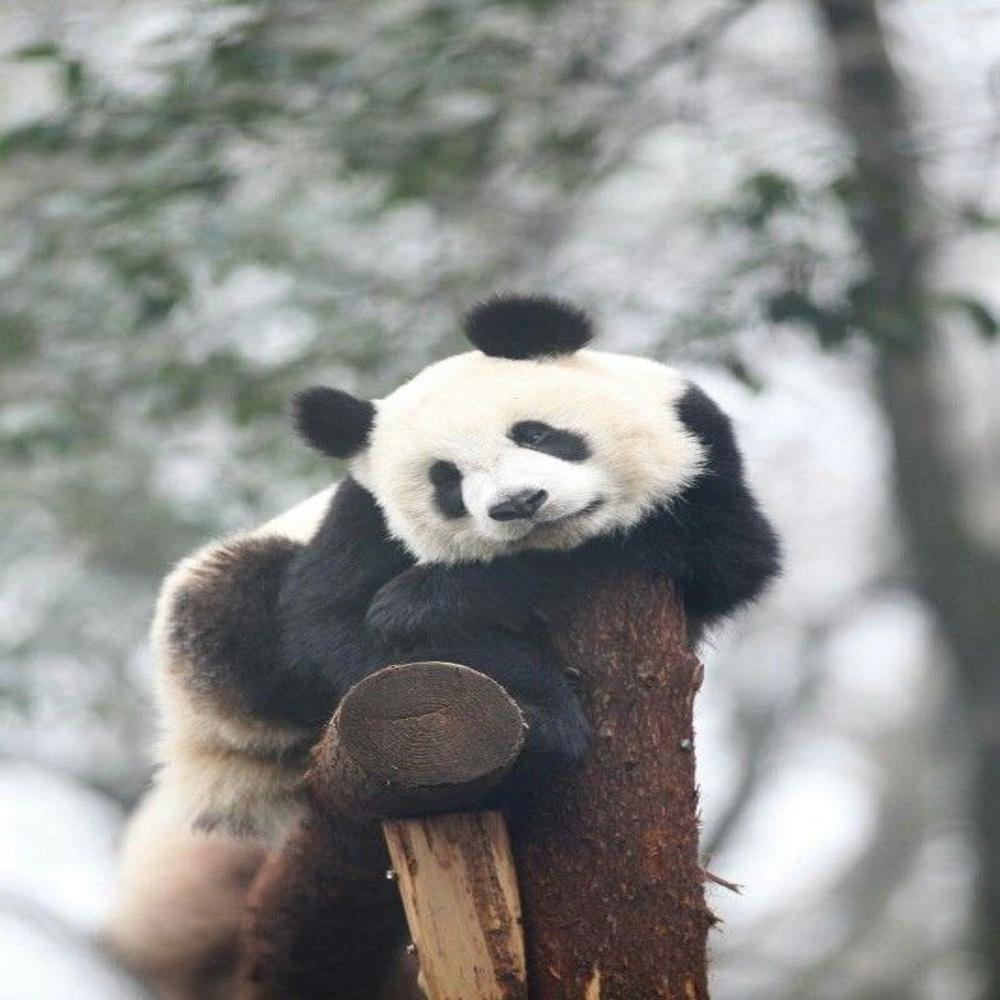panda: (284, 284, 782, 755)
